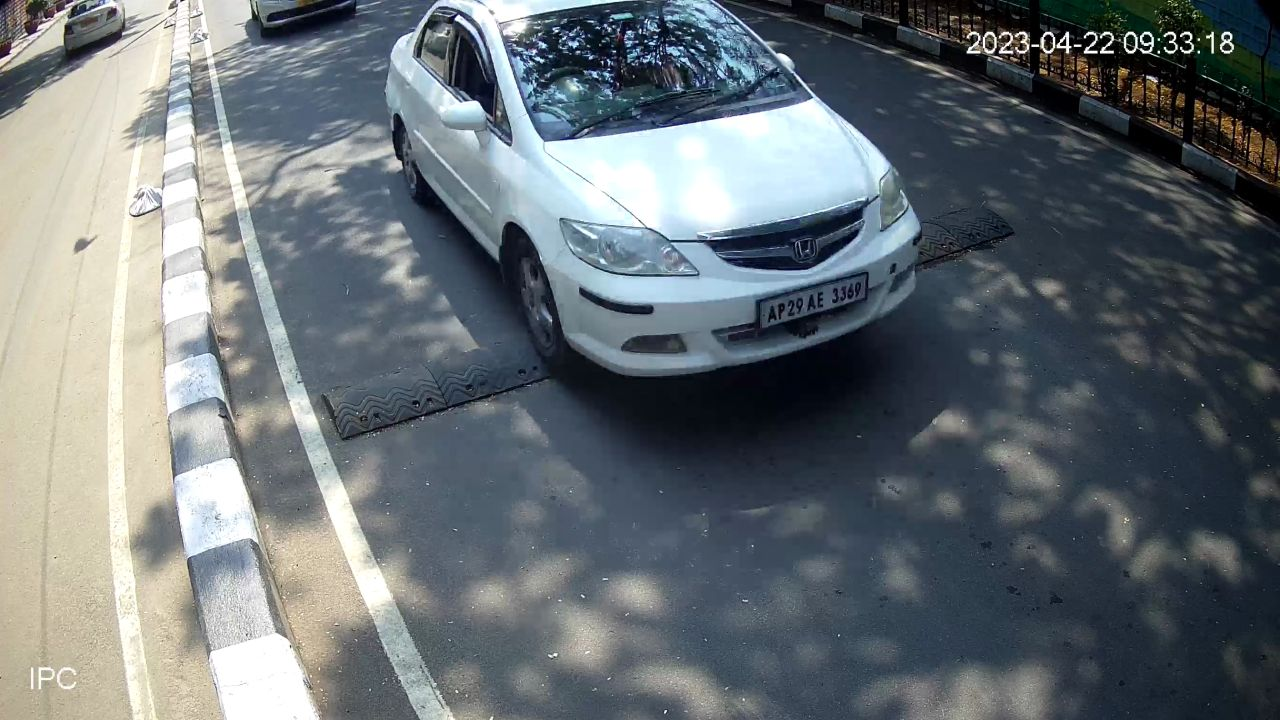license_plate: (752, 265, 876, 341)
